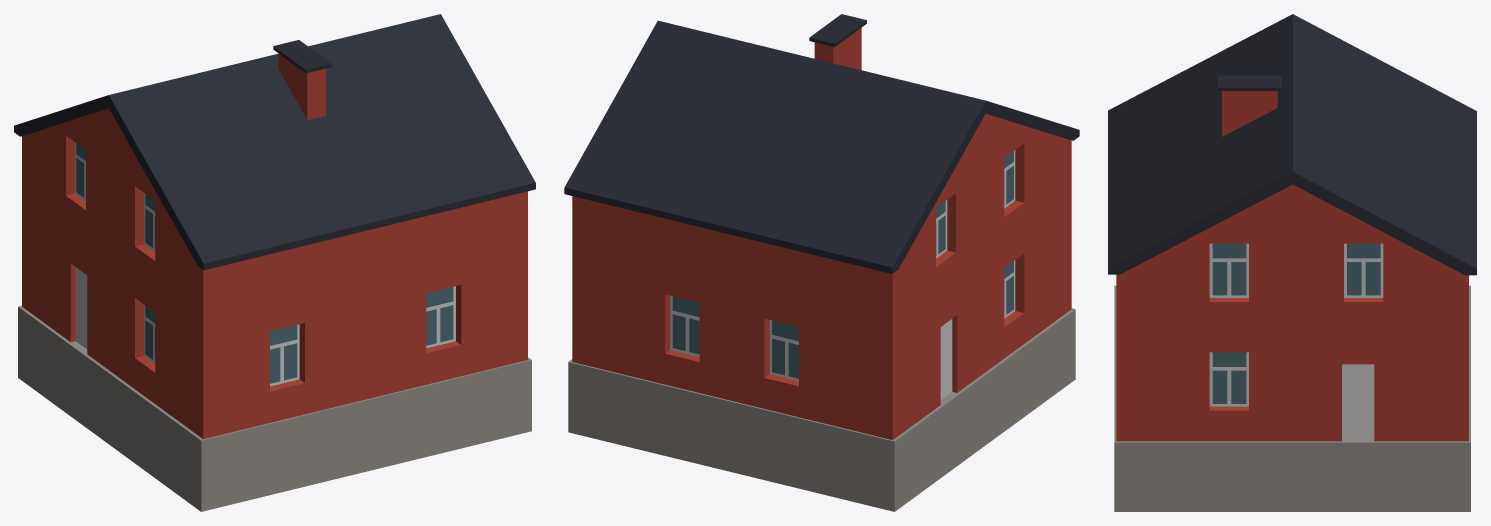
The model's file is house_bata_02.fbx.
3 views of the same model, side by side, from view 1: azimuth 30°, elevation 25°; view 2: azimuth 150°, elevation 25°; view 3: azimuth 270°, elevation 25° (orthographic). The views are drawn at different scales.
Visible parts, largest first — view 1: bata_house_02; view 2: bata_house_02; view 3: bata_house_02.
Part boxes in pixels (x1,y1,x2,y2): bata_house_02: (14,14,535,511); bata_house_02: (564,14,1079,511); bata_house_02: (1108,14,1476,511).
Size of the model in its own units: 924 by 969 by 914.
